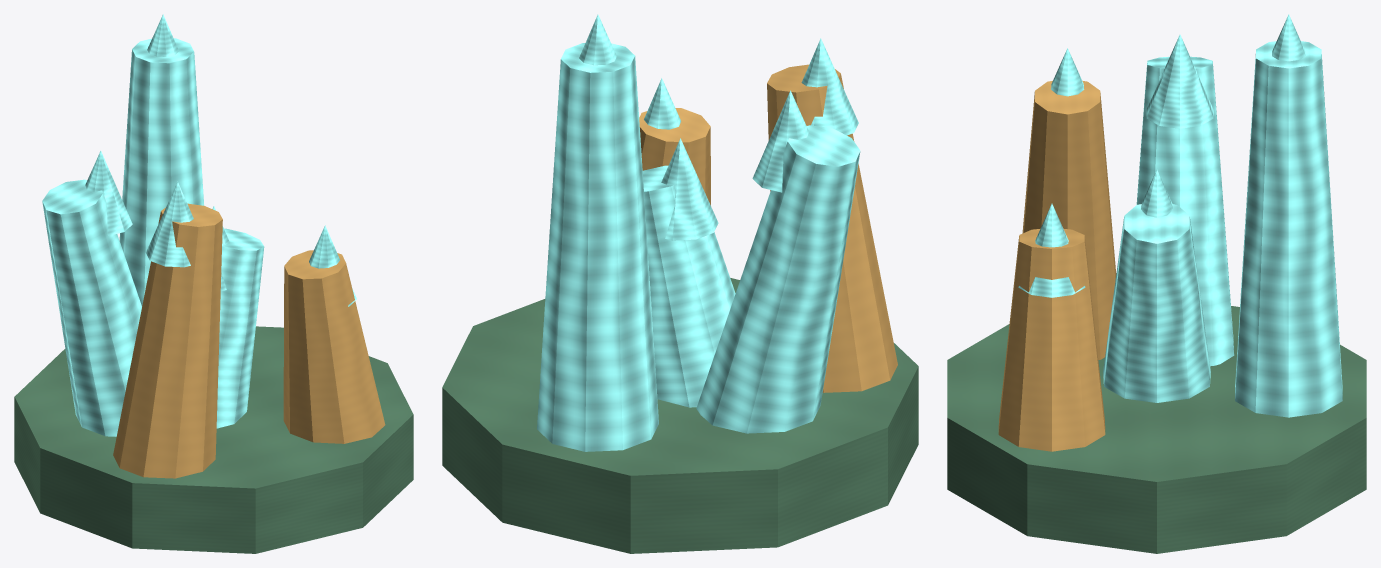
The model's file is atlas100-s002-a04.glb.
3 views of the same model, side by side, from view 1: azimuth 30°, elevation 25°; view 2: azimuth 150°, elevation 25°; view 3: azimuth 270°, elevation 25° (orthographic). The views are drawn at different scales.
Parts seen in each view (by area): view 1: atlas100-s002-a04:part-000, atlas100-s002-a04:part-003, atlas100-s002-a04:part-009, atlas100-s002-a04:part-007, atlas100-s002-a04:part-005, atlas100-s002-a04:part-001, atlas100-s002-a04:part-004, atlas100-s002-a04:part-010, atlas100-s002-a04:part-008, atlas100-s002-a04:part-006; view 2: atlas100-s002-a04:part-000, atlas100-s002-a04:part-005, atlas100-s002-a04:part-009, atlas100-s002-a04:part-001, atlas100-s002-a04:part-003, atlas100-s002-a04:part-007, atlas100-s002-a04:part-002, atlas100-s002-a04:part-004, atlas100-s002-a04:part-010, atlas100-s002-a04:part-008, atlas100-s002-a04:part-006; view 3: atlas100-s002-a04:part-000, atlas100-s002-a04:part-005, atlas100-s002-a04:part-007, atlas100-s002-a04:part-001, atlas100-s002-a04:part-003, atlas100-s002-a04:part-009, atlas100-s002-a04:part-010, atlas100-s002-a04:part-008, atlas100-s002-a04:part-004, atlas100-s002-a04:part-006, atlas100-s002-a04:part-002.
Part boxes in pixels (x1,y1,x2,y2): atlas100-s002-a04:part-000: [14, 326, 413, 553]; atlas100-s002-a04:part-003: [113, 203, 222, 478]; atlas100-s002-a04:part-009: [42, 179, 141, 436]; atlas100-s002-a04:part-007: [283, 250, 385, 443]; atlas100-s002-a04:part-005: [119, 38, 204, 306]; atlas100-s002-a04:part-001: [216, 228, 264, 428]; atlas100-s002-a04:part-004: [146, 181, 193, 267]; atlas100-s002-a04:part-010: [85, 150, 132, 235]; atlas100-s002-a04:part-008: [309, 225, 356, 306]; atlas100-s002-a04:part-006: [147, 14, 178, 56]; atlas100-s002-a04:part-000: [442, 278, 918, 553]; atlas100-s002-a04:part-005: [537, 43, 658, 451]; atlas100-s002-a04:part-009: [696, 125, 860, 433]; atlas100-s002-a04:part-001: [642, 165, 735, 407]; atlas100-s002-a04:part-003: [767, 64, 897, 392]; atlas100-s002-a04:part-007: [639, 108, 710, 205]; atlas100-s002-a04:part-002: [661, 138, 718, 240]; atlas100-s002-a04:part-004: [801, 38, 858, 135]; atlas100-s002-a04:part-010: [752, 90, 808, 192]; atlas100-s002-a04:part-008: [644, 78, 681, 129]; atlas100-s002-a04:part-006: [579, 14, 616, 65]; atlas100-s002-a04:part-000: [947, 306, 1366, 553]; atlas100-s002-a04:part-005: [1235, 41, 1342, 417]; atlas100-s002-a04:part-007: [998, 228, 1105, 451]; atlas100-s002-a04:part-001: [1103, 204, 1210, 402]; atlas100-s002-a04:part-003: [1022, 80, 1116, 359]; atlas100-s002-a04:part-009: [1136, 56, 1234, 366]; atlas100-s002-a04:part-010: [1146, 34, 1213, 128]; atlas100-s002-a04:part-008: [1018, 203, 1085, 297]; atlas100-s002-a04:part-004: [1051, 48, 1084, 96]; atlas100-s002-a04:part-006: [1272, 14, 1305, 61]; atlas100-s002-a04:part-002: [1141, 169, 1172, 217].
Size of the model in its own units: 1.07 by 1.21 by 1.02.
Materials: 3 (3 with a texture image).
